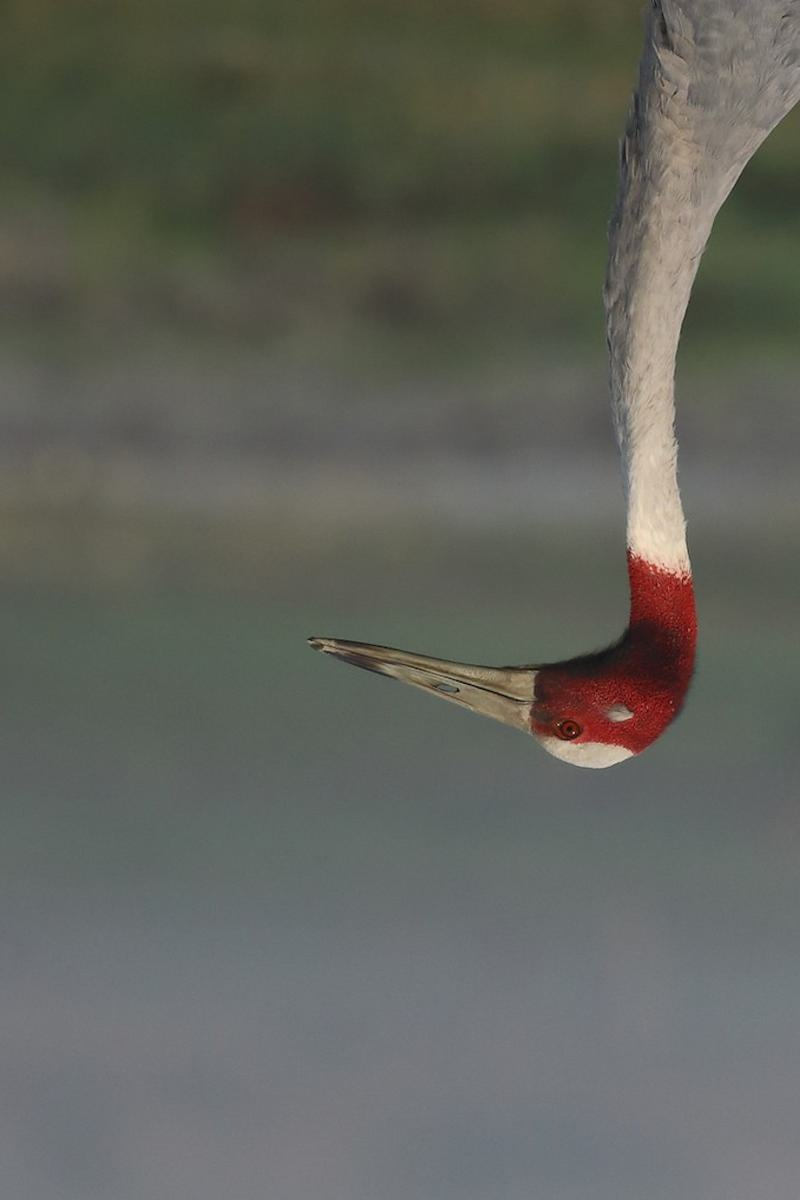crane: (272, 1, 800, 801)
